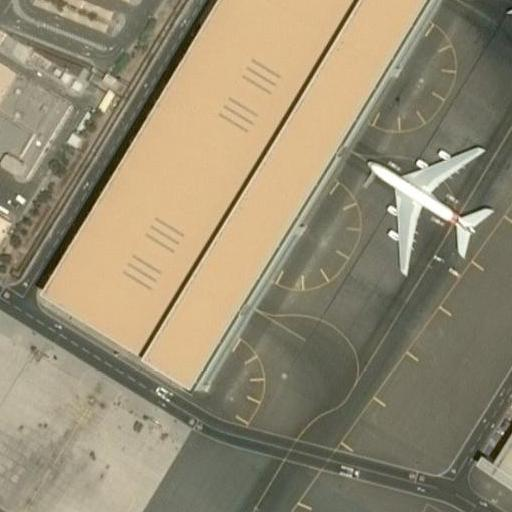Aircraft: (364, 137, 496, 274), (505, 0, 512, 92)
